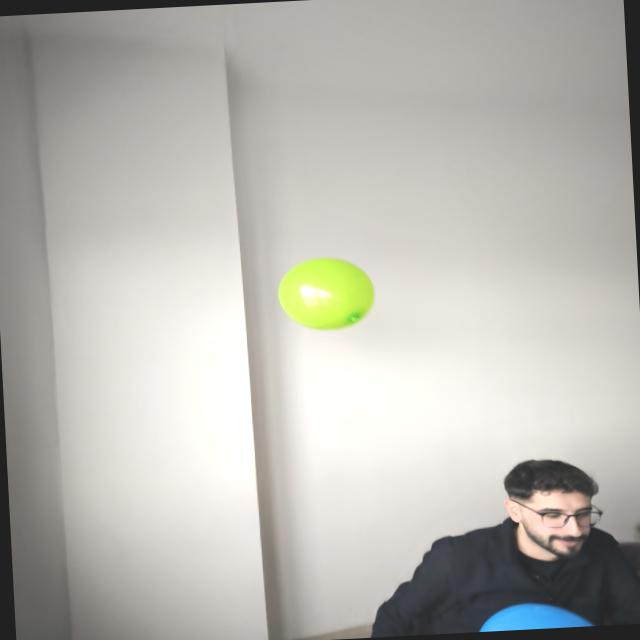balloon: (279, 258, 374, 329)
